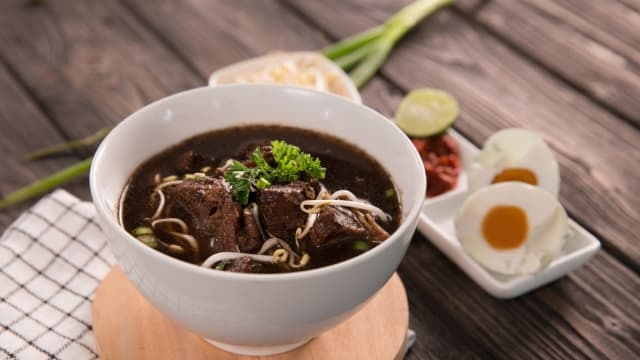rawon: (69, 82, 577, 295)
